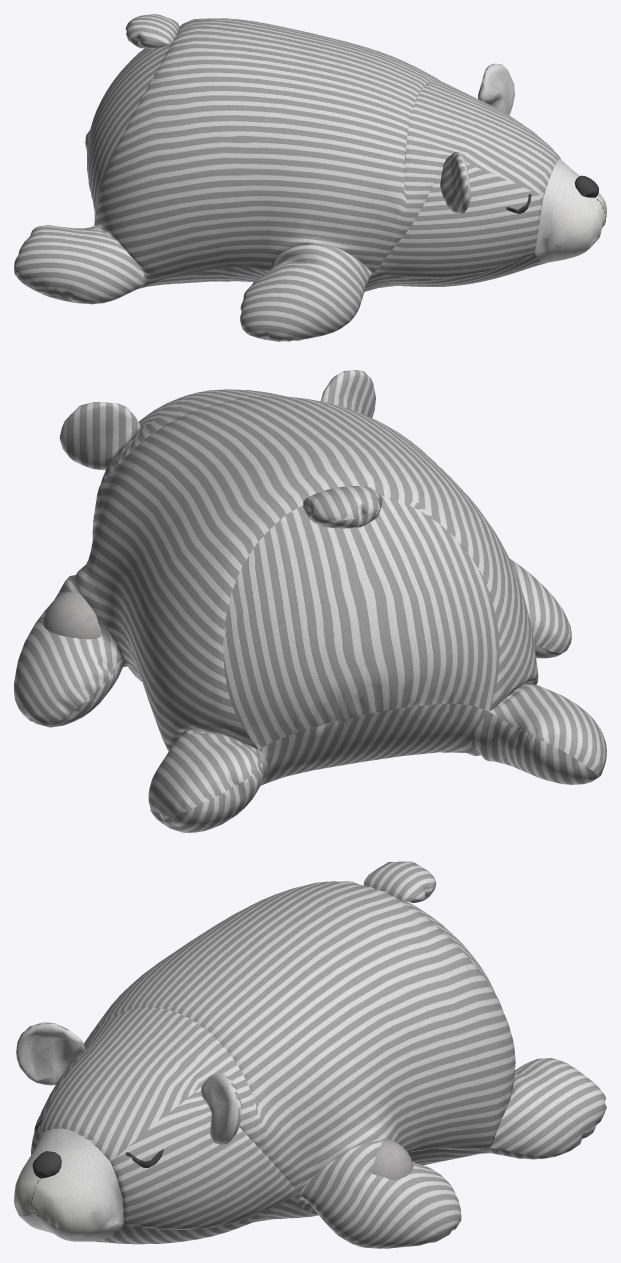
The model's file is peluche_oso_aslan.obj.
3 views of the same model, one above another, from view 1: azimuth 30°, elevation 25°; view 2: azimuth 150°, elevation 25°; view 3: azimuth 270°, elevation 25° (orthographic). The views are drawn at different scales.
Parts seen in each view (by area): view 1: Mesh1 w216 G_11______06______605_1 Group1 Model, Mesh3 w216 G_11______06______605_1 Group1 Model, Mesh2 w216 G_11______06______605_1 Group1 Model; view 2: Mesh1 w216 G_11______06______605_1 Group1 Model, Mesh2 w216 G_11______06______605_1 Group1 Model, Mesh26 G_2107074_5271 Group1 Model, Mesh3 w216 G_11______06______605_1 Group1 Model; view 3: Mesh1 w216 G_11______06______605_1 Group1 Model, Mesh3 w216 G_11______06______605_1 Group1 Model, Mesh2 w216 G_11______06______605_1 Group1 Model, Mesh26 G_2107074_5271 Group1 Model, Mesh4 w216 G_11______06______605_1 Group1 Model.
Part boxes in pixels (bbox=[...]): Mesh1 w216 G_11______06______605_1 Group1 Model: bbox=[14, 14, 606, 341]; Mesh3 w216 G_11______06______605_1 Group1 Model: bbox=[440, 151, 470, 213]; Mesh2 w216 G_11______06______605_1 Group1 Model: bbox=[478, 63, 514, 114]; Mesh1 w216 G_11______06______605_1 Group1 Model: bbox=[14, 389, 606, 832]; Mesh2 w216 G_11______06______605_1 Group1 Model: bbox=[59, 402, 140, 469]; Mesh26 G_2107074_5271 Group1 Model: bbox=[43, 592, 111, 639]; Mesh3 w216 G_11______06______605_1 Group1 Model: bbox=[320, 370, 375, 417]; Mesh1 w216 G_11______06______605_1 Group1 Model: bbox=[14, 861, 606, 1248]; Mesh3 w216 G_11______06______605_1 Group1 Model: bbox=[16, 1022, 84, 1085]; Mesh2 w216 G_11______06______605_1 Group1 Model: bbox=[200, 1073, 241, 1144]; Mesh26 G_2107074_5271 Group1 Model: bbox=[371, 1139, 413, 1179]; Mesh4 w216 G_11______06______605_1 Group1 Model: bbox=[32, 1151, 61, 1178].
Bounding box in the file's own units: 0.6989 × 0.3059 × 0.6657.
